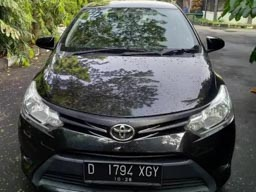plat: (85, 160, 167, 176)
